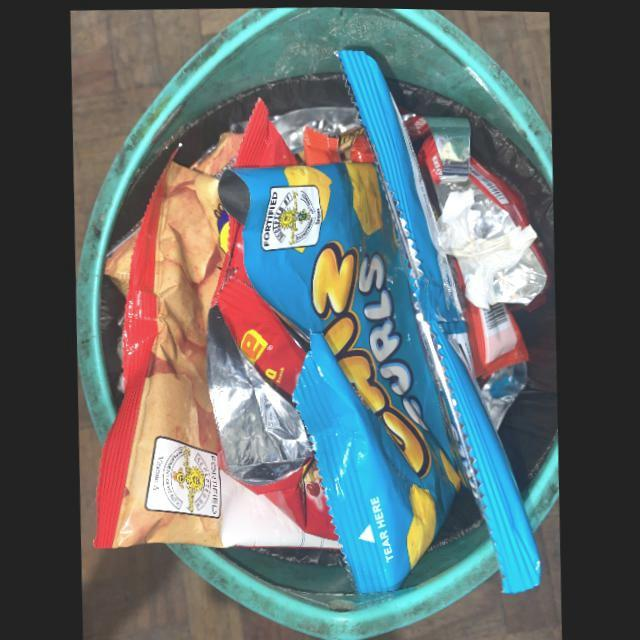food_wrapper: (217, 48, 543, 595), (94, 157, 340, 550), (417, 114, 552, 307), (446, 252, 529, 378), (269, 104, 375, 163), (230, 96, 300, 167)
paper: (437, 186, 538, 307)
